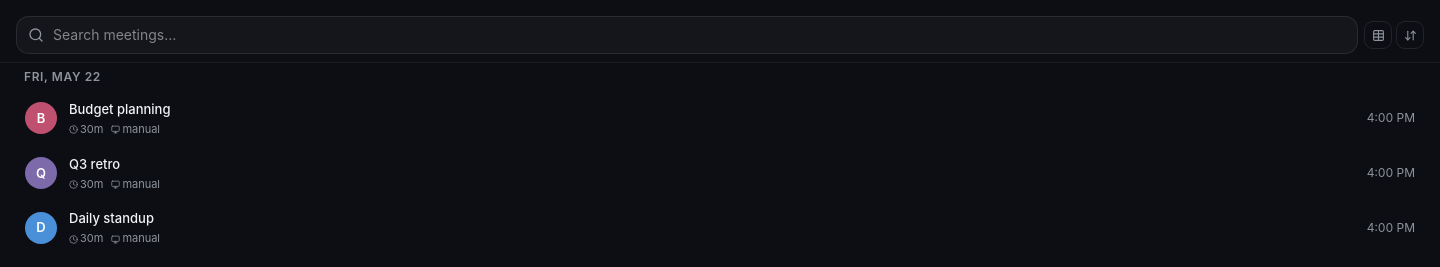
Test: NotesList search (server-fused, plan v9 #10) › renders keyword and Related rows from the single fused query
Expected: the text "Daily standup" is shown, [69,210,154,226]
Step 1. Type "budget" into the field with placeholder "Search meetings…" → x=687, y=35, box [16,16,1358,54]
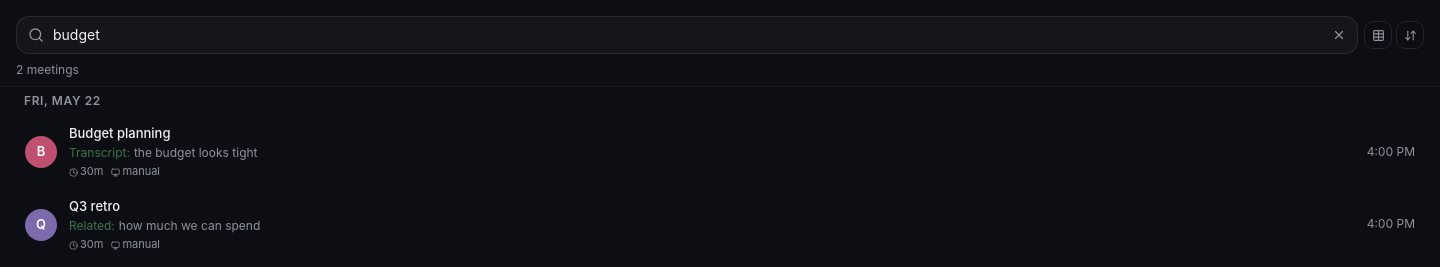
Result: the text "Related:" is shown at [69,218,115,233]
Result: the text "Related:how much we can spend" is shown at [69,218,260,233]
Result: the text "Transcript:" is shown at [69,145,130,160]
